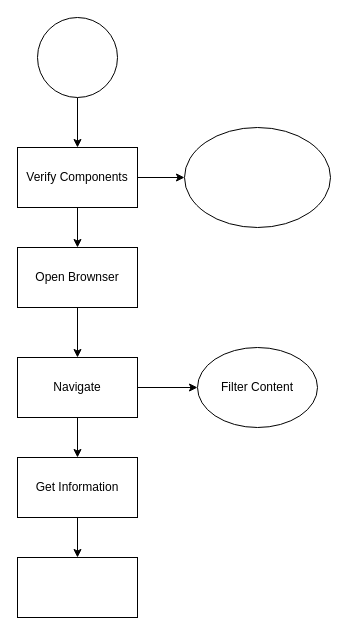
Image size: 348x635. Some labels were removed from this diagram. Here are the shapes that lost their labels. From the top down, the centre of each, then its label:
At (77,57): "Inicio".
At (257,177): "Check Brownser, Database and Internet Connection".
At (77,587): "Insert in Database".
